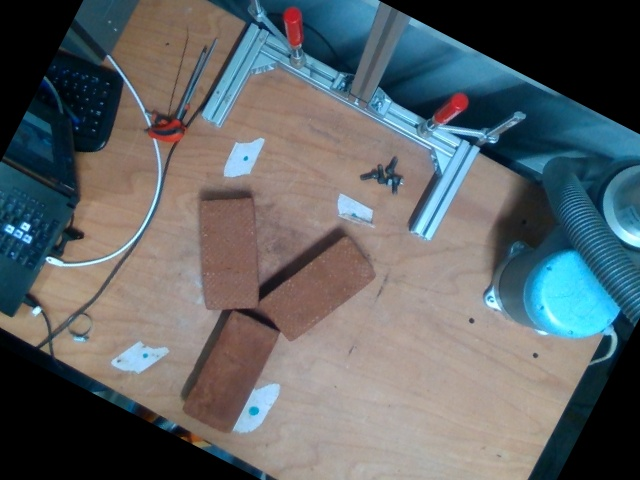brick: (258, 235, 378, 341), (184, 309, 276, 432), (198, 199, 259, 307)
